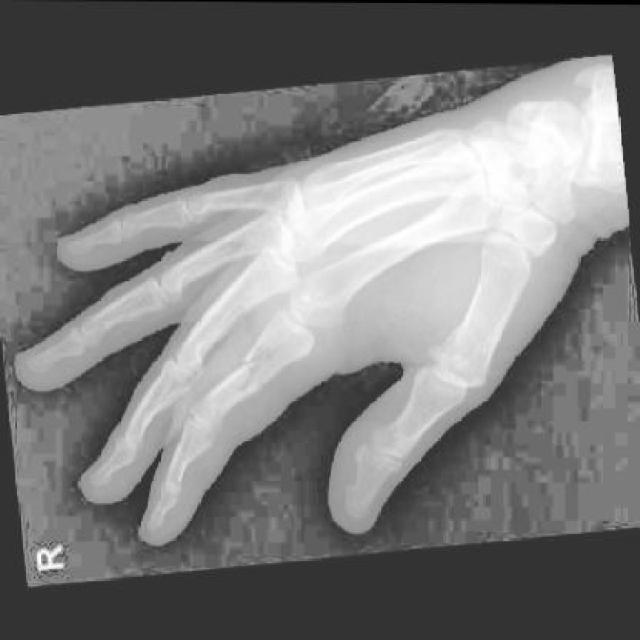Fracture: (210, 339, 296, 406)
